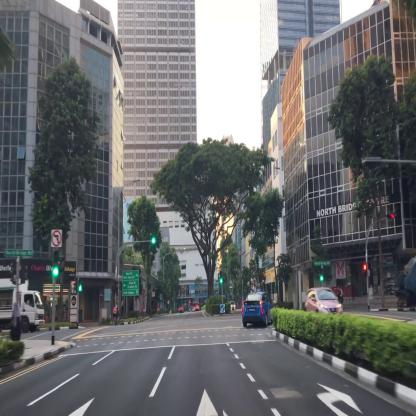green_traffic_light: (53, 251, 58, 276), (152, 238, 160, 244), (220, 271, 222, 284)
